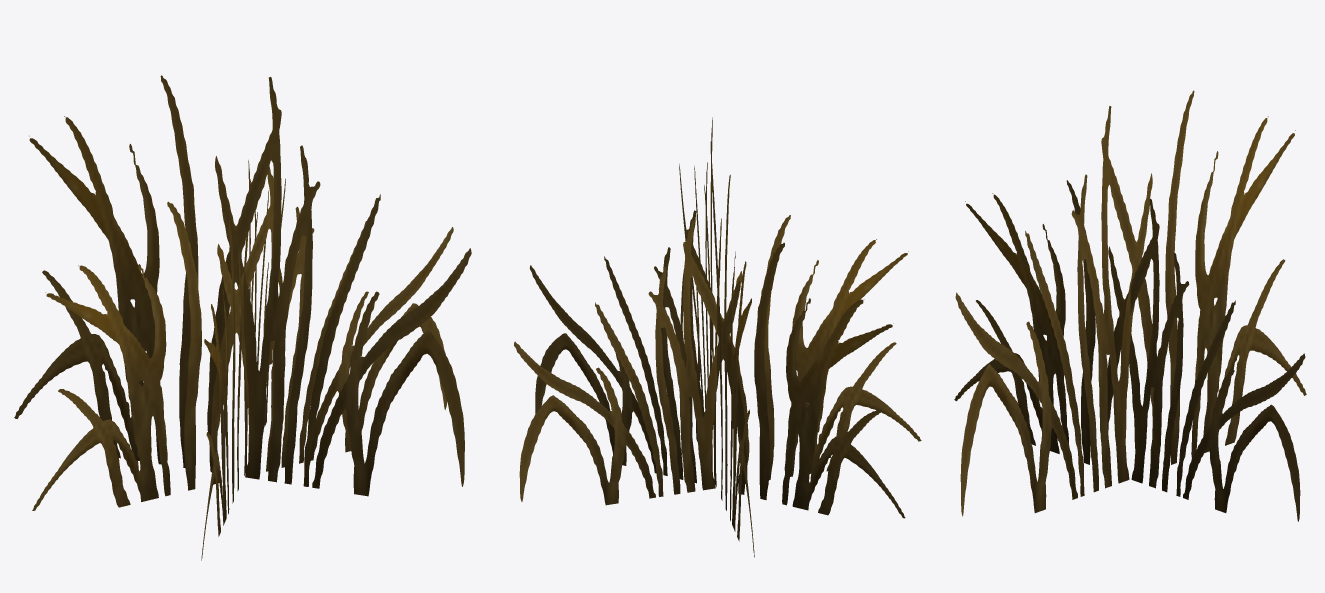
File: common_reed_9.FBX
3 renders of one model, left to right at view 1: azimuth 30°, elevation 25°; view 2: azimuth 150°, elevation 25°; view 3: azimuth 270°, elevation 25°, orthographic. The views are drawn at different scales.
Parts seen in each view (by area): view 1: Plane009; view 2: Plane009; view 3: Plane009.
Part boxes in pixels (x1=…): Plane009: x1=14, y1=75, x2=471, y2=560; Plane009: x1=514, y1=117, x2=921, y2=557; Plane009: x1=954, y1=90, x2=1306, y2=521.
Bounding box in the file's own units: 86.47 × 82.51 × 67.
